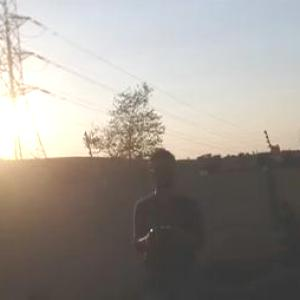follow: (126, 143, 212, 299)
